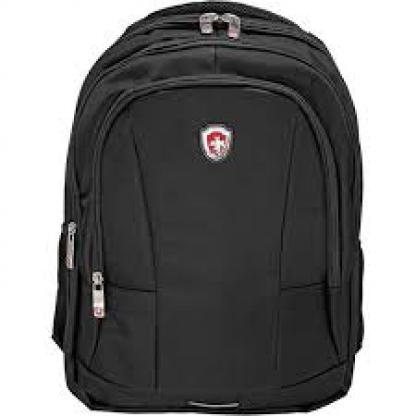morral: (39, 2, 373, 414)
